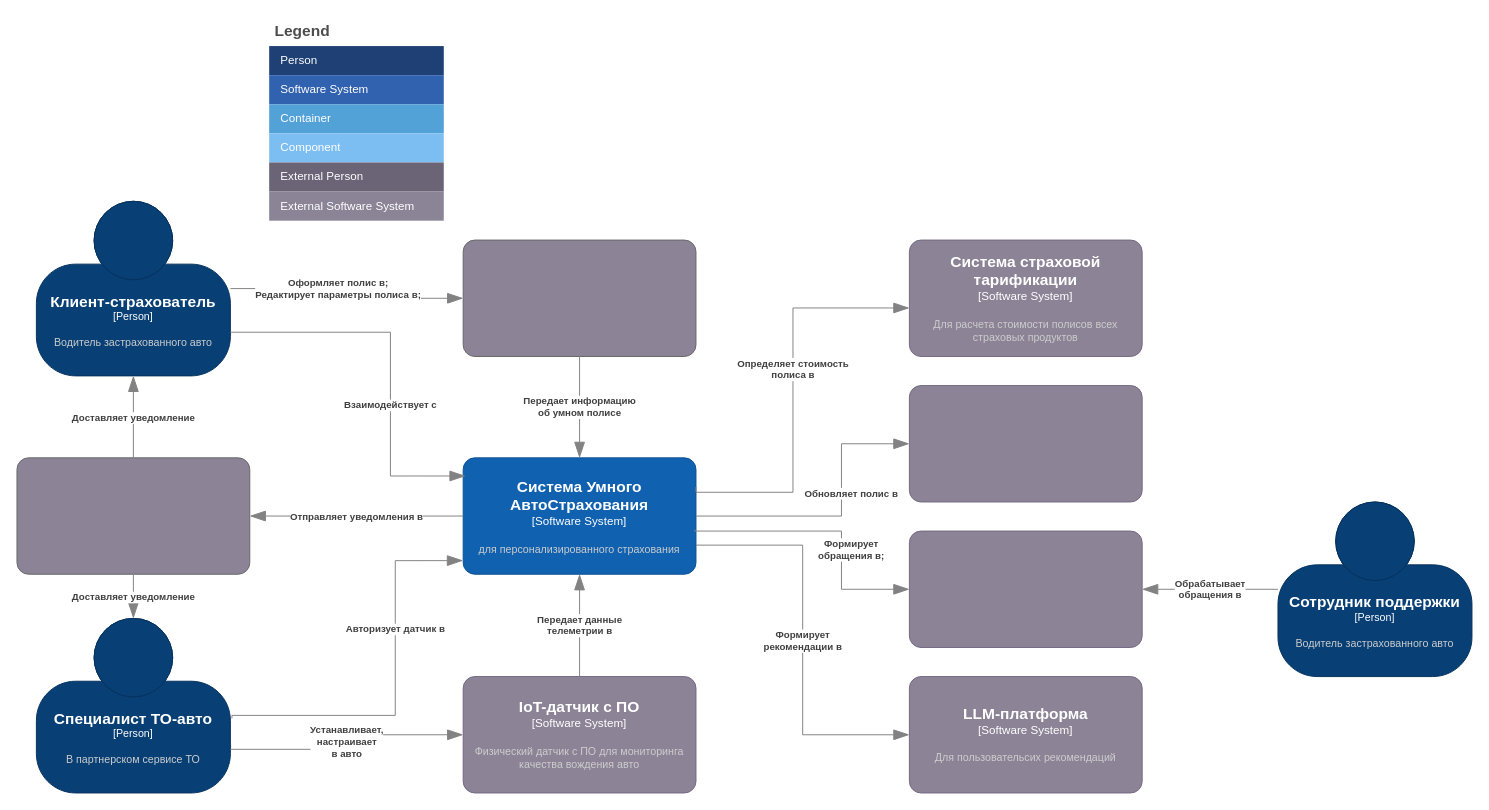
The diagram is 1489 pixels wide and 810 high, and some of its shapes have lost their labels. Each missing label, with the centre of its shape:
"Каналы связи с клиентом [Software System] SMS провайдеры/Мессенджеры/E-mail" goes at (x=133, y=515).
"Омниканальная система поддержки клиентов [Software System]" goes at (x=1025, y=588).
"Система страхового учета [Software System] Для учета полисов КАСКО" goes at (x=1025, y=443).
"Фронт-система для оформления полисов [Software System]" goes at (x=579, y=297).
